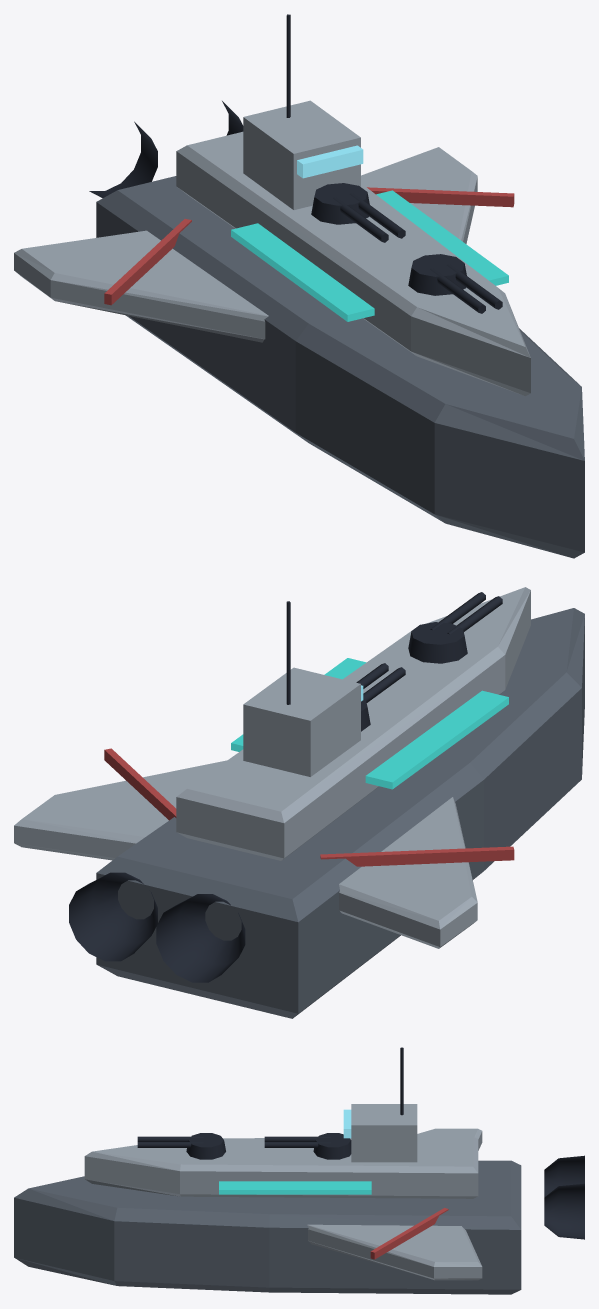
File: frigate.glb
3 renders of one model, top to bottom at view 1: azimuth 30°, elevation 25°; view 2: azimuth 150°, elevation 25°; view 3: azimuth 270°, elevation 25°, orthographic. The views are drawn at different scales.
Parts seen in each view (by area): view 1: frigate; view 2: frigate; view 3: frigate.
Part boxes in pixels (x1,y1,x2,y2): frigate: (14, 14, 584, 558); frigate: (14, 587, 584, 1018); frigate: (14, 1047, 584, 1294).
Size of the model in its own units: 1.27 by 0.95 by 2.25.
